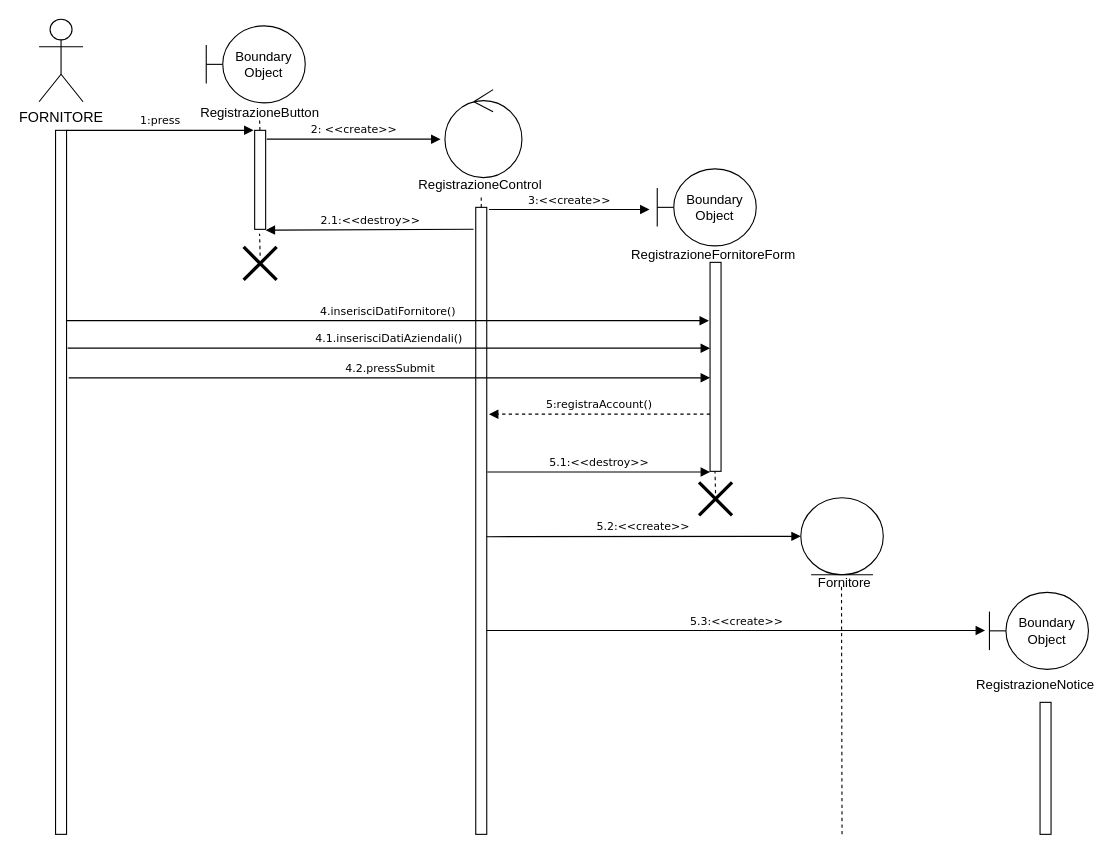
This 1120x855 diagram has some shape labels left out. Here are the shapes that lost their labels. From the top down, the centre of each, then its label:
At (483,133): "Control Object".
At (841,536): "Entity Object".
